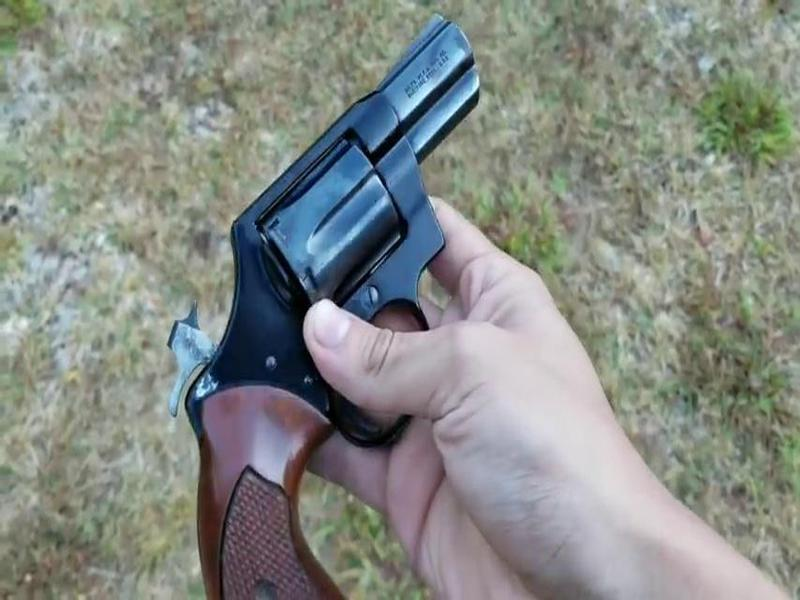Revolver: (157, 13, 493, 581)
